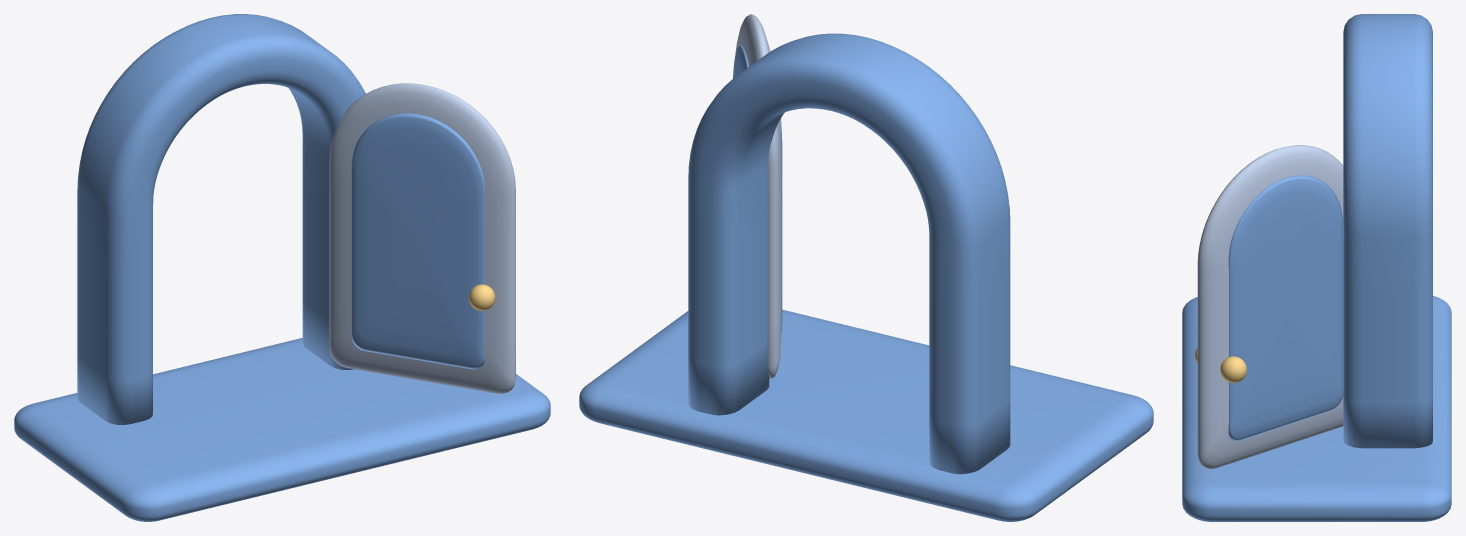
File: 05-open-door.glb
The picture shows the model from 3 angles, left to right: view 1: azimuth 30°, elevation 25°; view 2: azimuth 150°, elevation 25°; view 3: azimuth 270°, elevation 25°; orthographic projection. The views are drawn at different scales.
Visible parts, largest first — view 1: OpenDoor; view 2: OpenDoor; view 3: OpenDoor.
Part boxes in pixels (x1,y1,x2,y2): OpenDoor: [14, 14, 550, 521]; OpenDoor: [579, 14, 1153, 521]; OpenDoor: [1182, 14, 1451, 521].
Size of the model in its own units: 1.2 by 1.04 by 0.6545.
